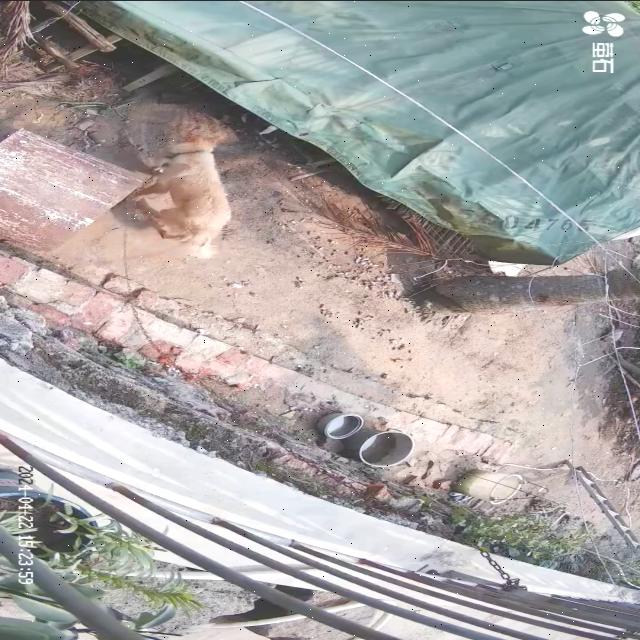dog: (127, 131, 238, 259)
